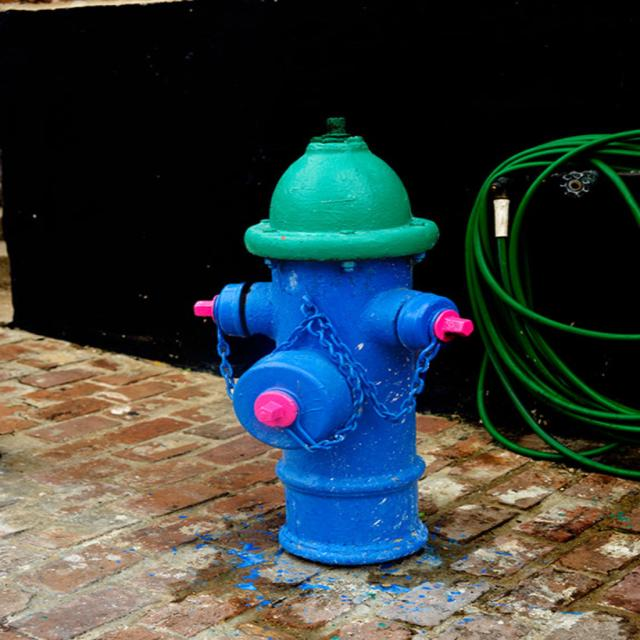fire_hydrant: (189, 113, 471, 570)
